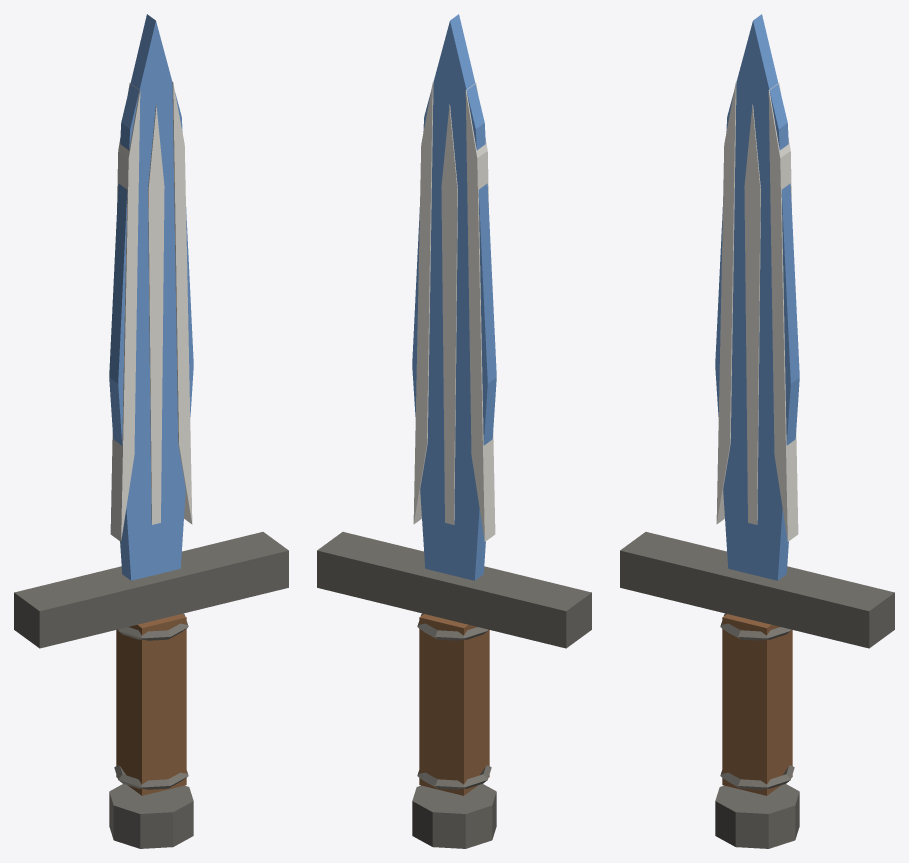
Rendered from t4_one_handed_sword.glb.
The picture shows the model from 3 angles, left to right: view 1: azimuth 30°, elevation 25°; view 2: azimuth 150°, elevation 25°; view 3: azimuth 330°, elevation 25°; orthographic projection.
Visible parts, largest first — view 1: Blade, Guard, Grip, LeftBladeEdge, Fuller, RightBladeEdge, Pommel, BottomGripRing, TopGripRing; view 2: Blade, Guard, Grip, LeftBladeEdge, Fuller, RightBladeEdge, Pommel, BottomGripRing, TopGripRing; view 3: Blade, Guard, Grip, RightBladeEdge, Fuller, LeftBladeEdge, Pommel, BottomGripRing, TopGripRing.
Part boxes in pixels (x1,y1,x2,y2): Blade: (109, 14, 193, 580); Guard: (14, 532, 288, 648); Grip: (116, 614, 186, 795); LeftBladeEdge: (110, 83, 140, 541); Fuller: (148, 104, 164, 524); RightBladeEdge: (172, 82, 192, 524); Pommel: (109, 783, 193, 848); BottomGripRing: (114, 765, 188, 789); TopGripRing: (118, 613, 188, 640); Blade: (412, 14, 496, 580); Guard: (317, 532, 591, 648); Grip: (419, 614, 489, 795); LeftBladeEdge: (465, 83, 495, 541); Fuller: (441, 104, 457, 524); RightBladeEdge: (413, 82, 433, 524); Pommel: (412, 783, 496, 848); BottomGripRing: (417, 765, 491, 789); TopGripRing: (417, 613, 487, 640); Blade: (715, 14, 799, 580); Guard: (620, 532, 894, 648); Grip: (722, 614, 792, 795); RightBladeEdge: (768, 83, 798, 541); Fuller: (744, 104, 760, 524); LeftBladeEdge: (716, 82, 736, 524); Pommel: (715, 783, 799, 848); BottomGripRing: (720, 765, 794, 789); TopGripRing: (720, 613, 790, 640).
Bounding box in the file's own units: 0.56 × 1.75 × 0.17.
